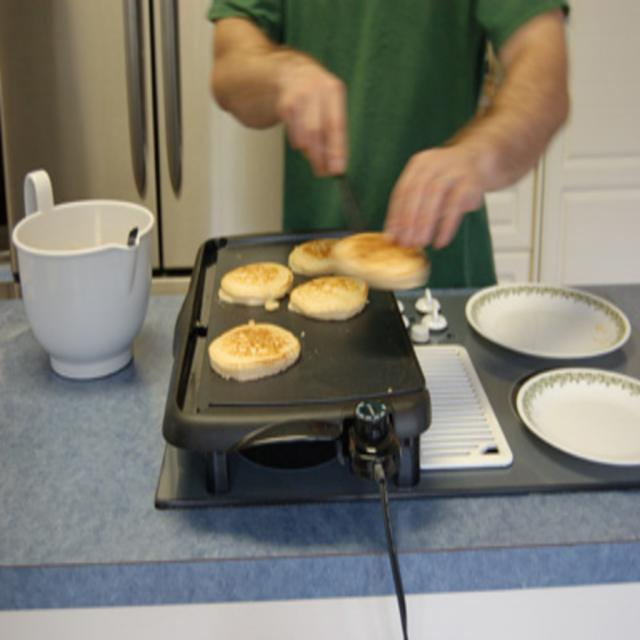Pancake: (330, 229, 432, 292), (210, 320, 300, 380), (215, 255, 293, 313), (285, 277, 368, 325), (286, 234, 346, 282)
